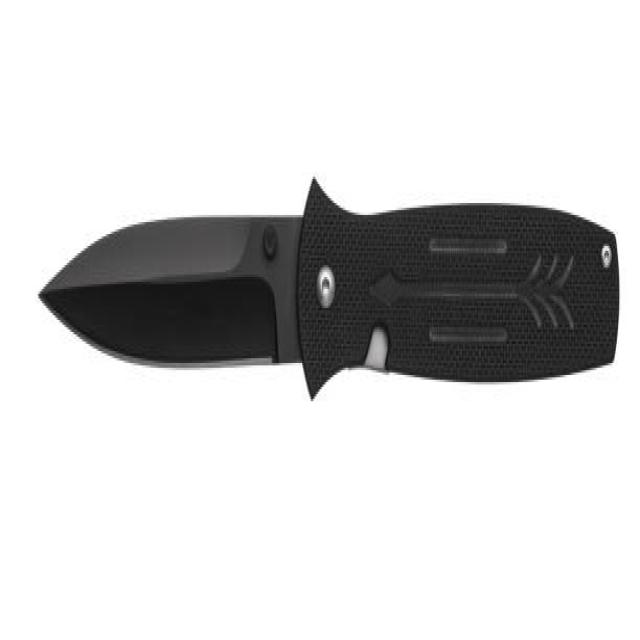knife: (31, 178, 625, 409)
